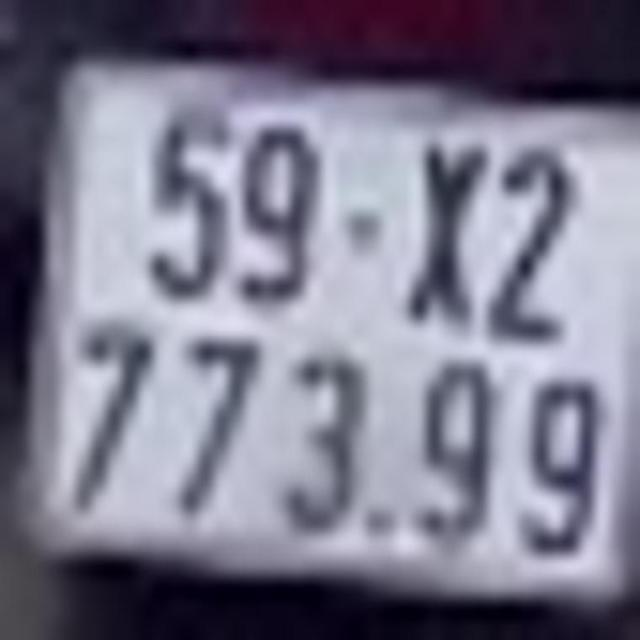2: (489, 140, 573, 345)
3: (280, 339, 364, 536)
5: (145, 100, 231, 301)
7: (63, 319, 156, 516), (175, 328, 263, 522)
9: (237, 115, 317, 310), (417, 354, 490, 550), (523, 371, 598, 559)
X: (405, 134, 483, 330)
